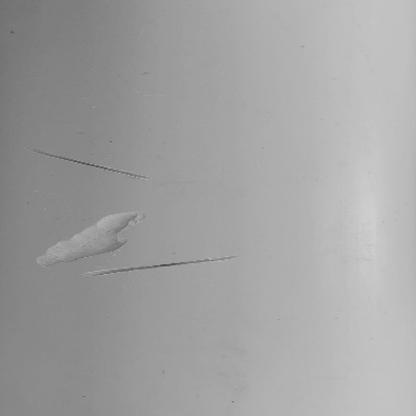sunshang: (35, 210, 145, 267), (82, 253, 236, 282), (28, 149, 148, 178)
